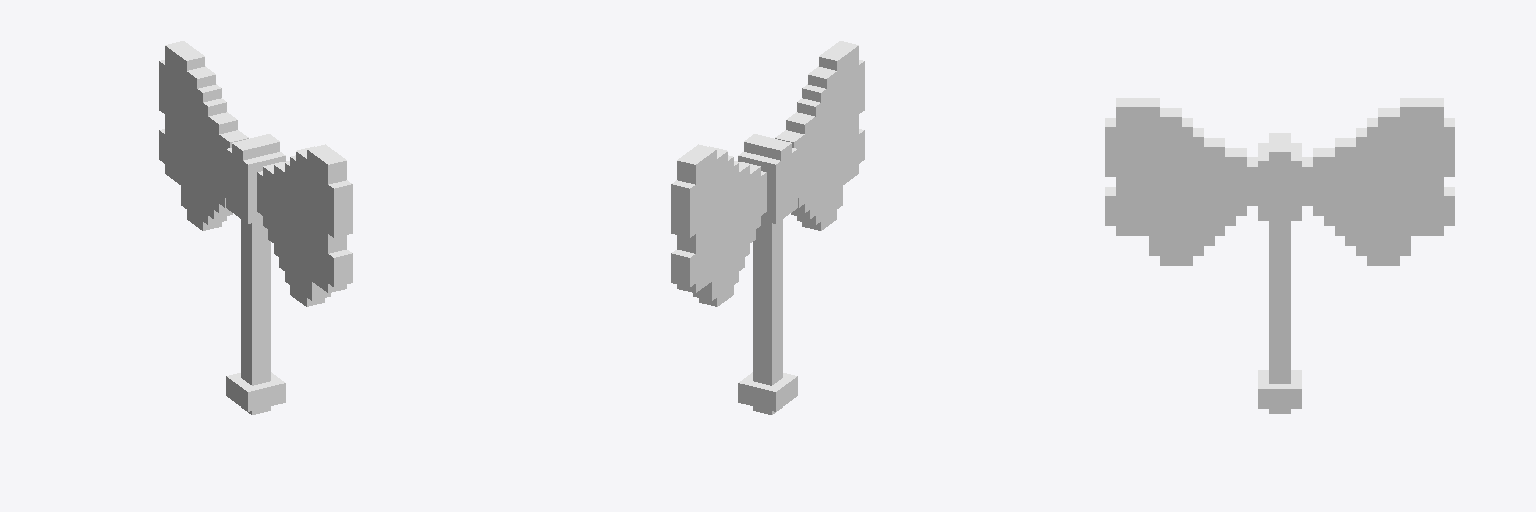
Rendered from WingedAxe.obj.
3 views of the same model, side by side, from view 1: azimuth 30°, elevation 25°; view 2: azimuth 150°, elevation 25°; view 3: azimuth 270°, elevation 25° (orthographic).
Visible parts, largest first — view 1: Box_6, Box_5, Box_2, Box_4; view 2: Box_6, Box_5, Box_2, Box_4; view 3: Box_5, Box_4, Box_6.
Part boxes in pixels (left/top/right/bottom): Box_6: left=159, top=43, right=342, bottom=414; Box_5: left=175, top=41, right=352, bottom=412; Box_2: left=226, top=141, right=256, bottom=411; Box_4: left=261, top=134, right=285, bottom=404; Box_6: left=681, top=43, right=864, bottom=414; Box_5: left=671, top=41, right=848, bottom=412; Box_2: left=767, top=141, right=797, bottom=411; Box_4: left=738, top=134, right=762, bottom=404; Box_5: left=1105, top=103, right=1454, bottom=413; Box_4: left=1258, top=147, right=1301, bottom=408; Box_6: left=1105, top=98, right=1454, bottom=379.
Size of the model in its own units: 4 by 31 by 32.